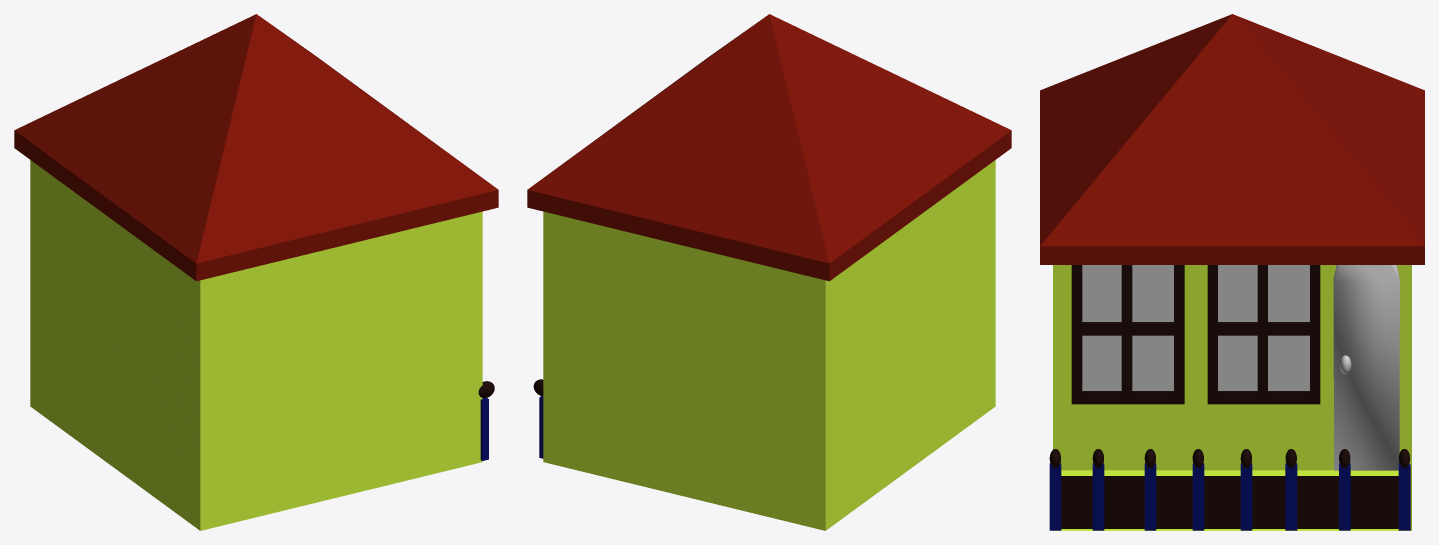
The model's file is Destination.obj.
3 views of the same model, side by side, from view 1: azimuth 30°, elevation 25°; view 2: azimuth 150°, elevation 25°; view 3: azimuth 270°, elevation 25° (orthographic). The views are drawn at different scales.
Parts seen in each view (by area): view 1: ev.005; view 2: ev.005; view 3: ev.005.
Part boxes in pixels (x1,y1,x2,y2): ev.005: (14,14,498,530); ev.005: (527,14,1011,530); ev.005: (1040,14,1424,530).
Size of the model in its own units: 8.25 by 10.86 by 8.53.
